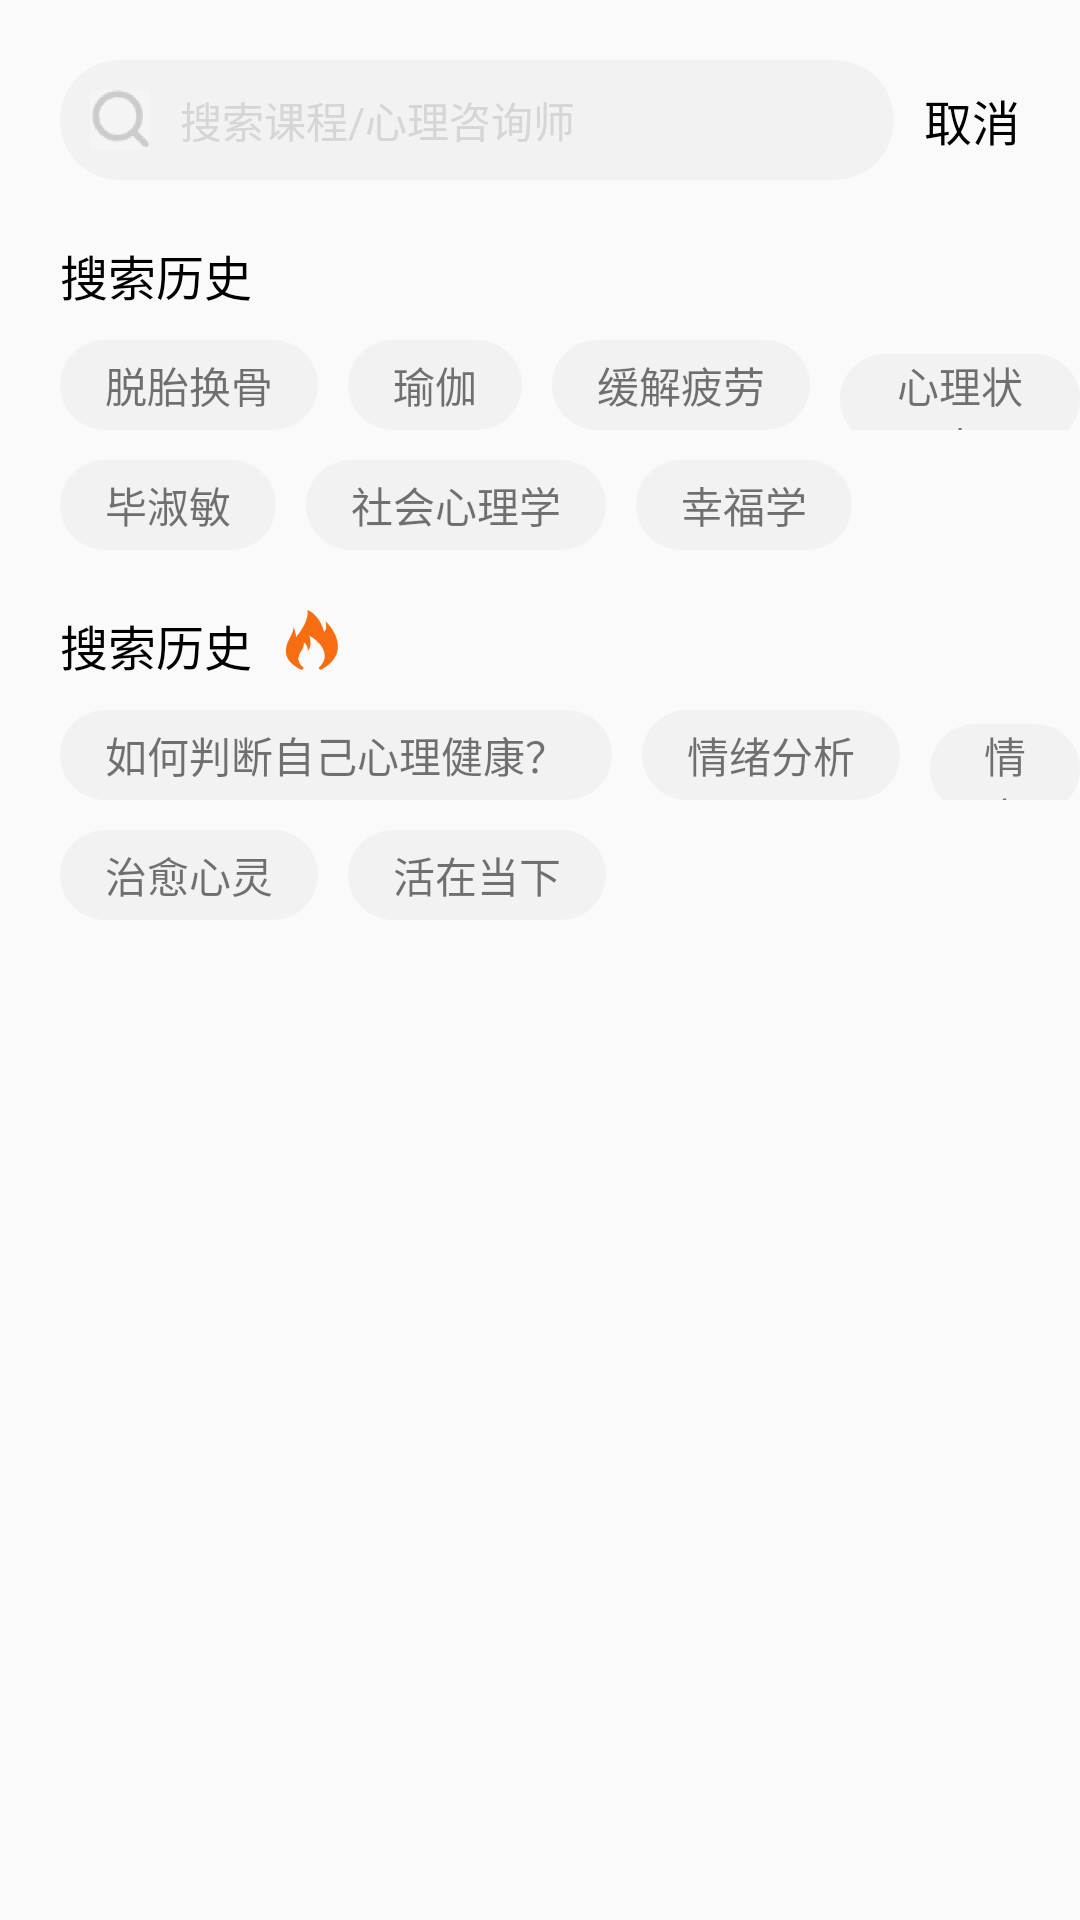

Icons on this 1080*1920 Android screen, each with its box as (x1, y1, x2, y2):
fire: (286, 610, 338, 670)
search: (93, 92, 148, 147)
